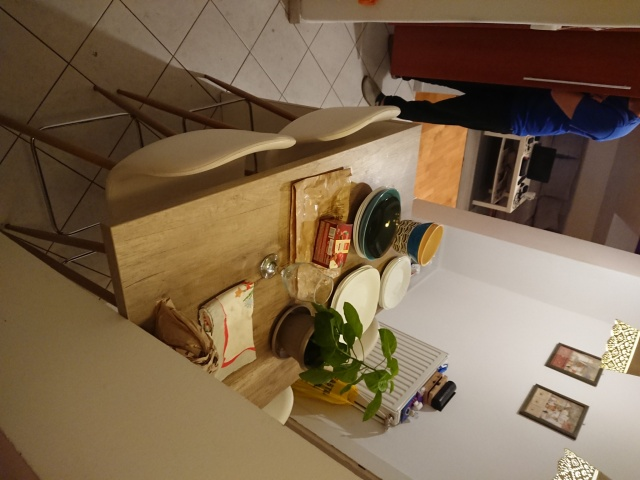Franck Apple Cinnamon Tea 60g: (307, 215, 355, 271)
